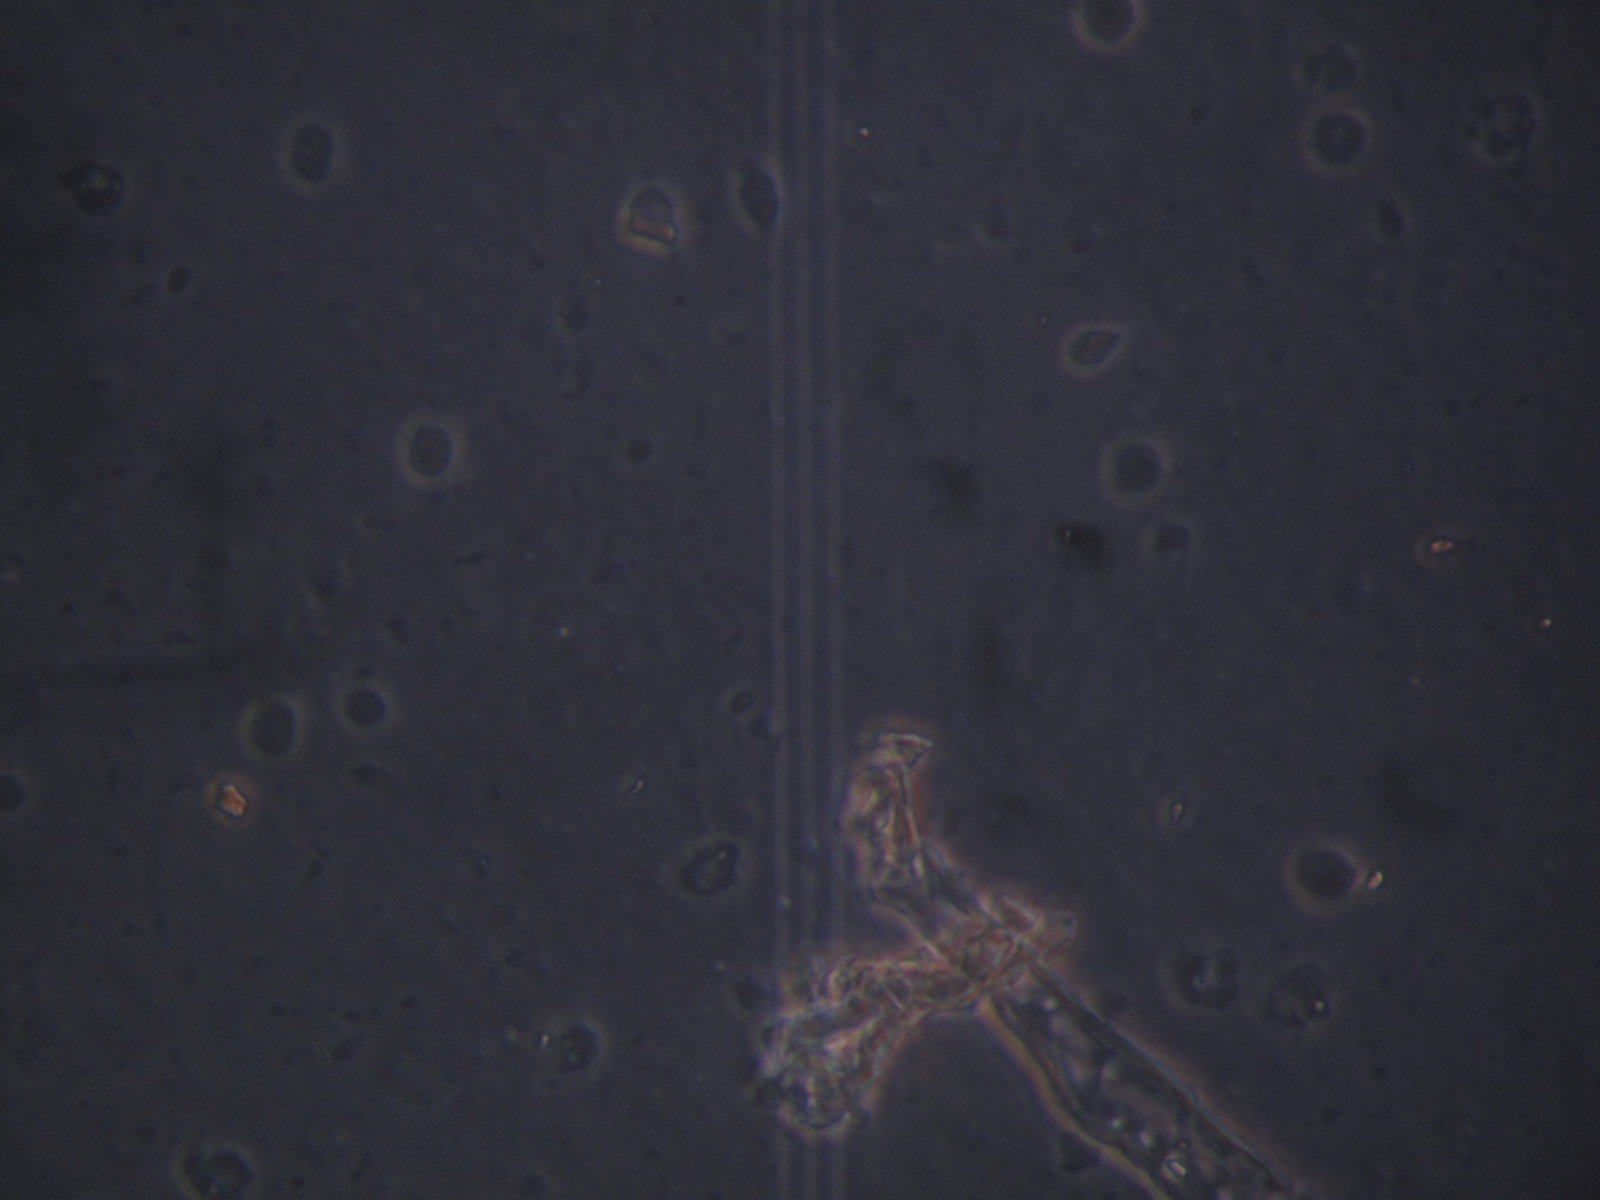hemo: (1160, 942, 1252, 1018), (1281, 838, 1364, 919), (1096, 429, 1172, 508), (276, 108, 345, 194), (396, 411, 467, 487), (1298, 103, 1372, 175), (237, 695, 307, 770), (535, 1013, 603, 1087), (674, 838, 745, 903), (180, 1145, 257, 1200), (1070, 1, 1144, 54), (1063, 318, 1124, 376), (335, 679, 396, 735)
